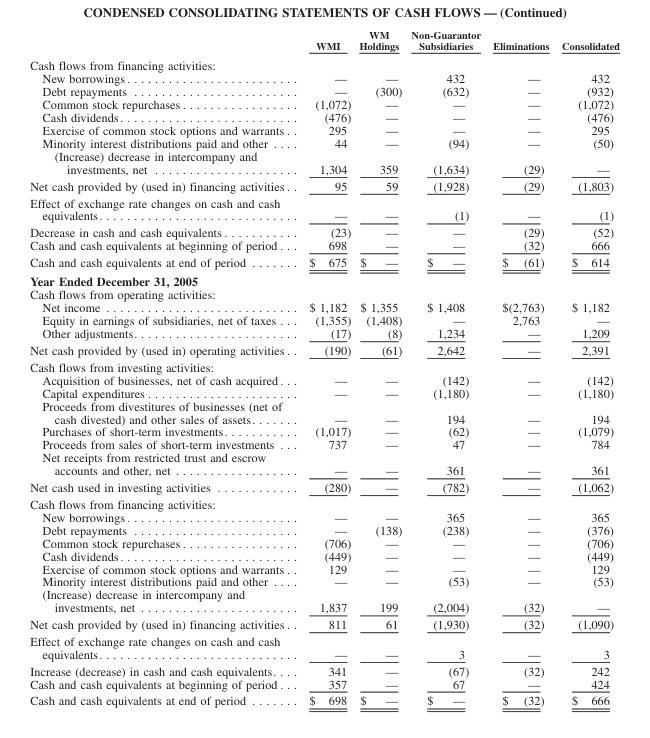table: (29, 28, 619, 707)
table column: (29, 28, 298, 707), (405, 28, 486, 707), (486, 28, 554, 707), (554, 28, 619, 707), (298, 28, 354, 707), (354, 28, 405, 707)
table column header: (29, 28, 619, 54)
table projected row header: (29, 54, 619, 71), (29, 271, 619, 287), (29, 358, 619, 373), (29, 495, 619, 510), (29, 287, 619, 300)
table row: (29, 193, 619, 223), (29, 632, 619, 662), (29, 149, 619, 177), (29, 450, 619, 478), (29, 587, 619, 615), (29, 28, 619, 54), (29, 398, 619, 424), (29, 253, 619, 271), (29, 54, 619, 71), (29, 341, 619, 358), (29, 478, 619, 495), (29, 615, 619, 632), (29, 177, 619, 193), (29, 271, 619, 287), (29, 691, 619, 707), (29, 223, 619, 238), (29, 238, 619, 253), (29, 326, 619, 341), (29, 358, 619, 373), (29, 495, 619, 510), (29, 676, 619, 691), (29, 662, 619, 676), (29, 71, 619, 84), (29, 84, 619, 97), (29, 97, 619, 110), (29, 110, 619, 123), (29, 123, 619, 136), (29, 136, 619, 149), (29, 287, 619, 300), (29, 300, 619, 313), (29, 313, 619, 326), (29, 373, 619, 386), (29, 424, 619, 437), (29, 437, 619, 450), (29, 510, 619, 523), (29, 535, 619, 548), (29, 548, 619, 561), (29, 561, 619, 574), (29, 574, 619, 587), (29, 386, 619, 398), (29, 523, 619, 535)
